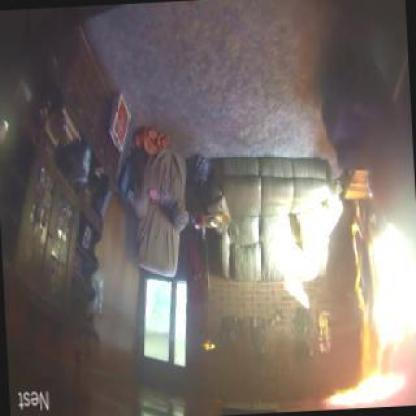Fire: (326, 190, 414, 404)
